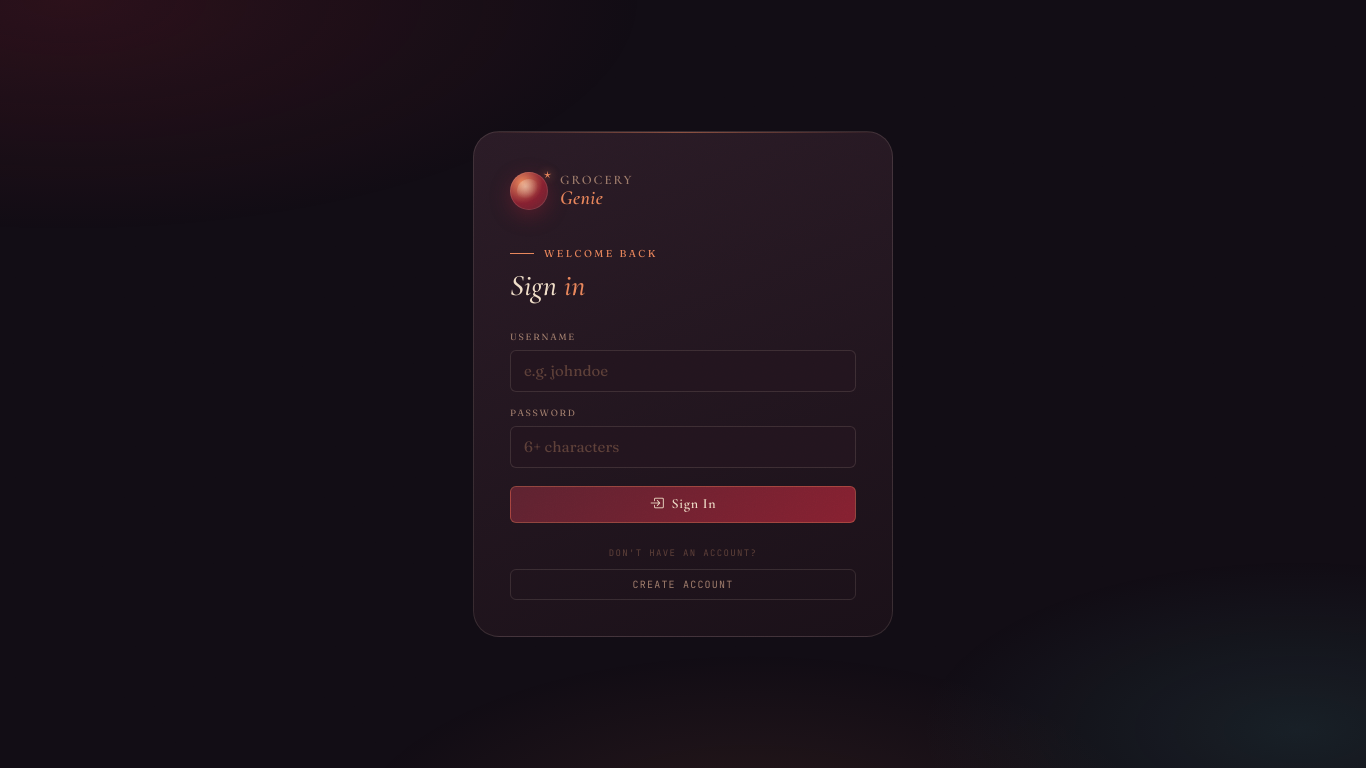
Test: basic rendering › switches back to login mode from register mode
What coordinates should you click on to do the following:
click the button "Create Account"
I would click on:
 (683, 584)
Its box is [510,569,856,600].
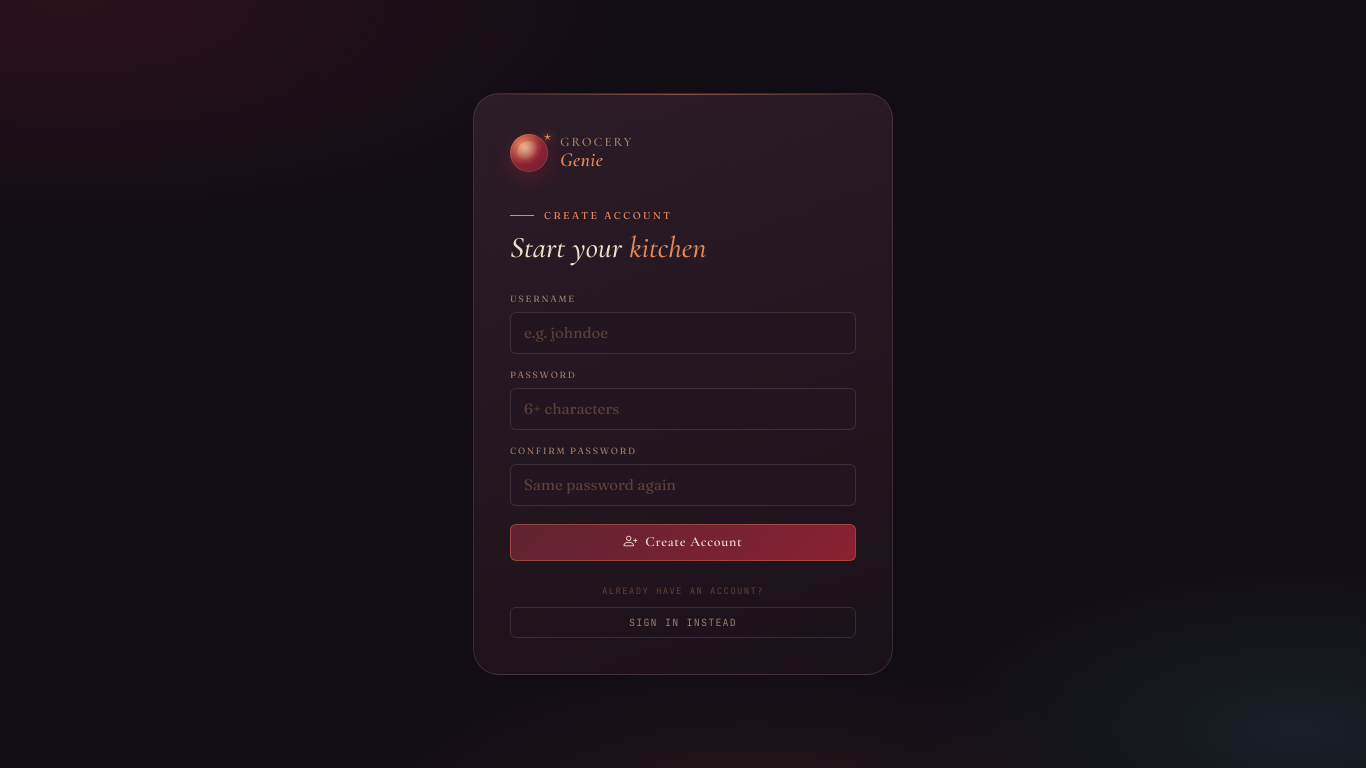
What coordinates should you click on to do the following:
click the button "Sign In Instead"
I would click on:
 (683, 622)
Its box is [510,607,856,638].
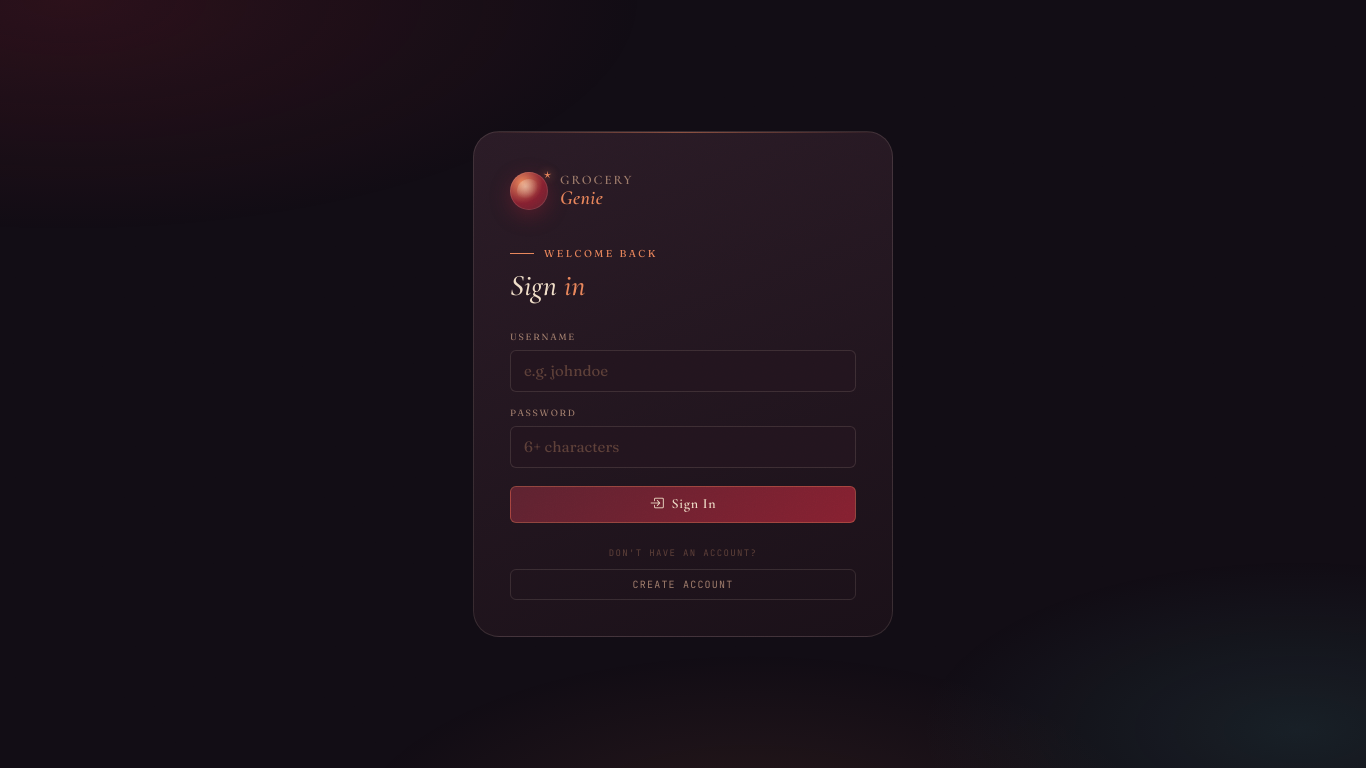
Expected: the label labelled "Confirm Password" is gone
